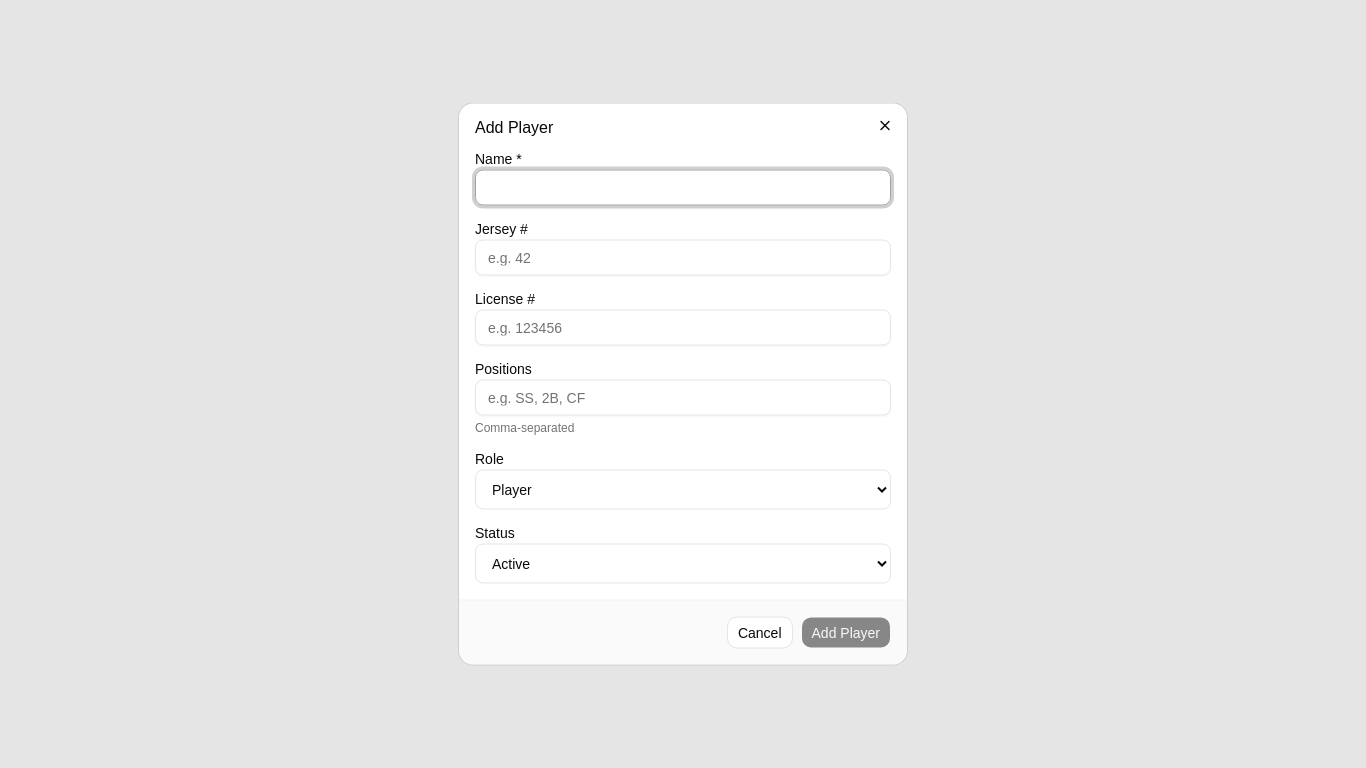
PlayerDialog — null coercion › submit button shows "Saving…" and is disabled during submission
The width and height of the screenshot is (1366, 768).
Type "Hank" into the field labelled "Name *". click: (683, 188)
box: [475,170,891,206]
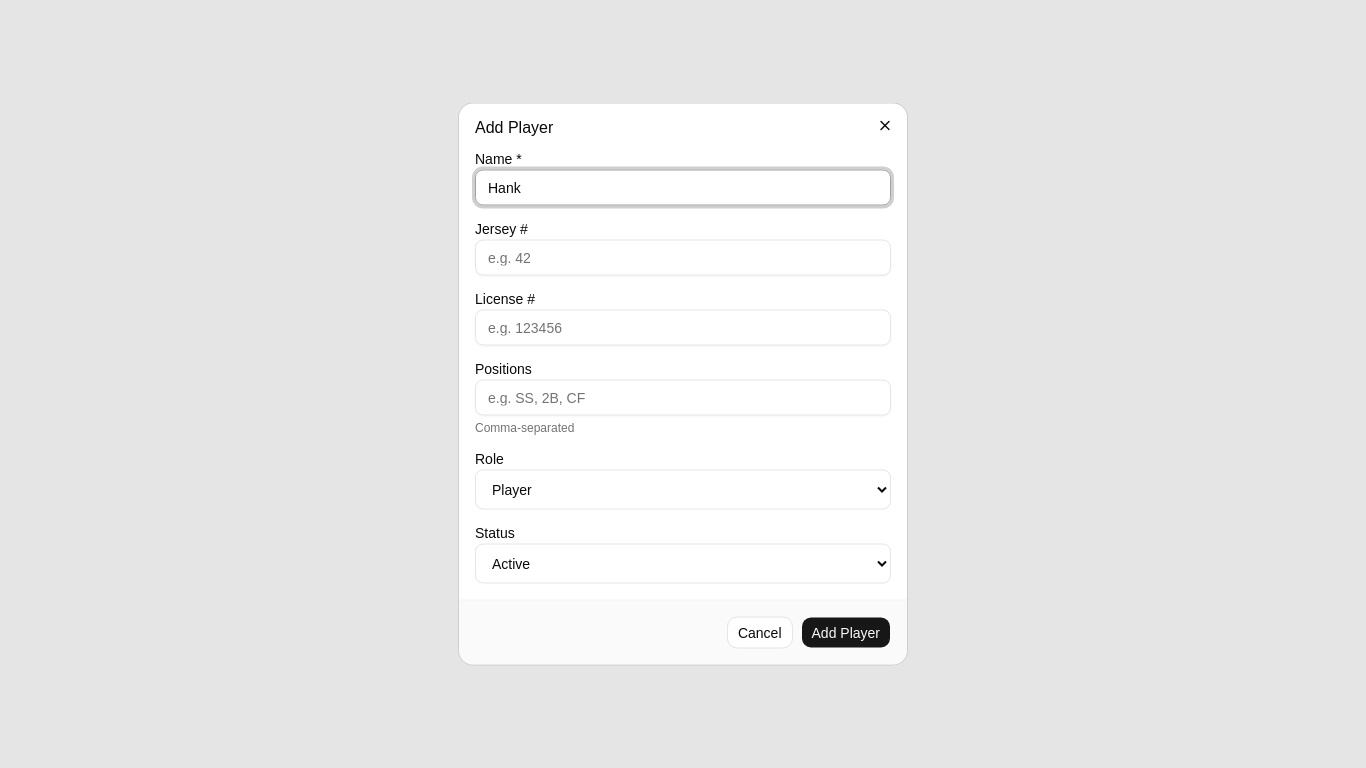
Click the button "Add Player". click: (846, 632)
box: [800,616,891,648]
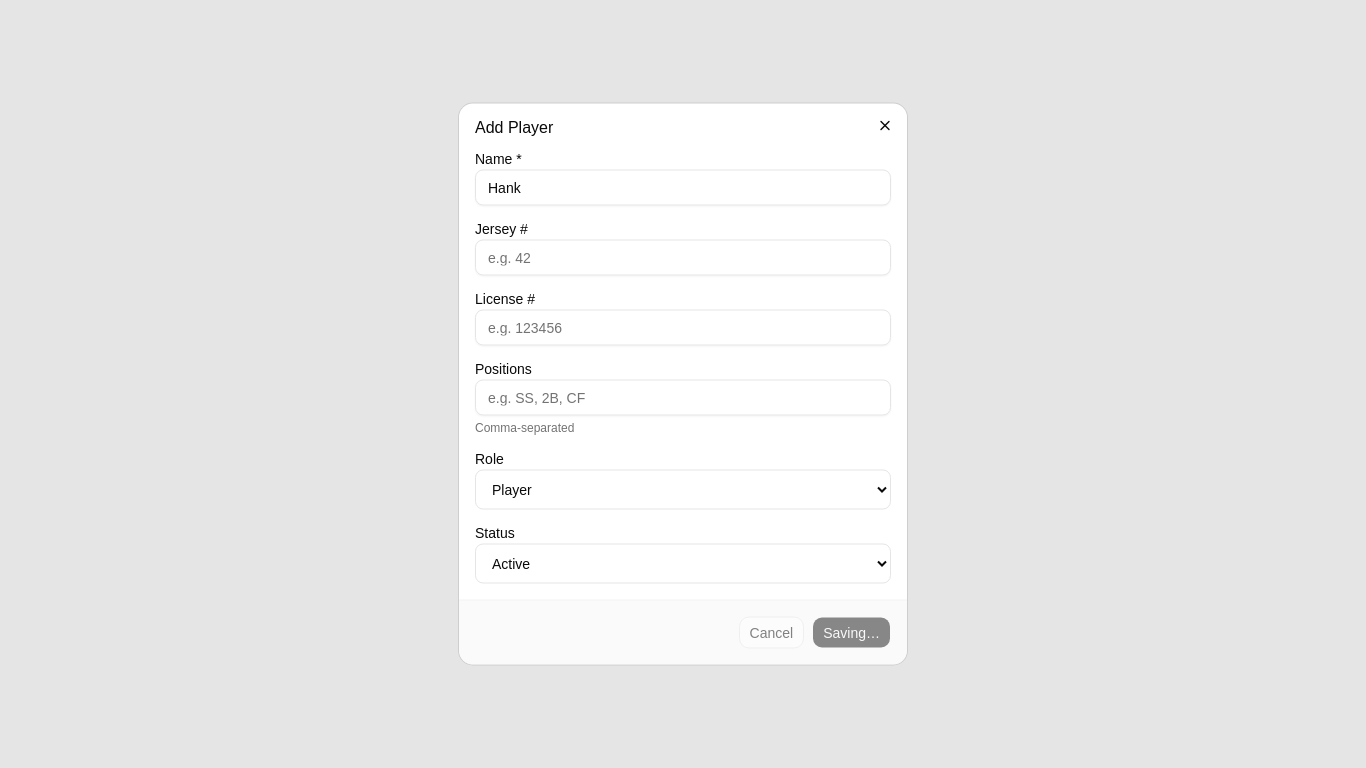
Expected: the button "Saving…" is disabled, [812,616,891,648]
Expected: the button "Cancel" is disabled, [739,616,804,648]
